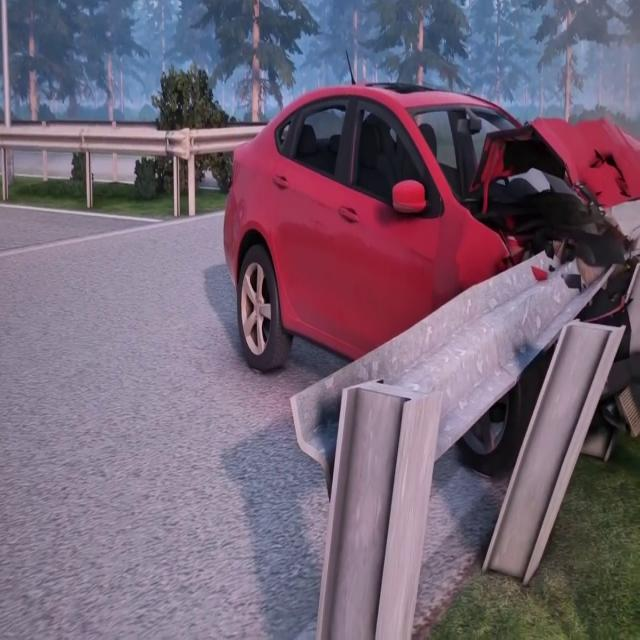accident: (225, 80, 640, 640)
